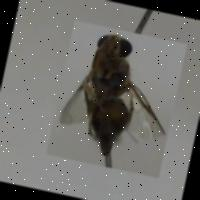Oriental-fruit-fly: (46, 19, 187, 177)
